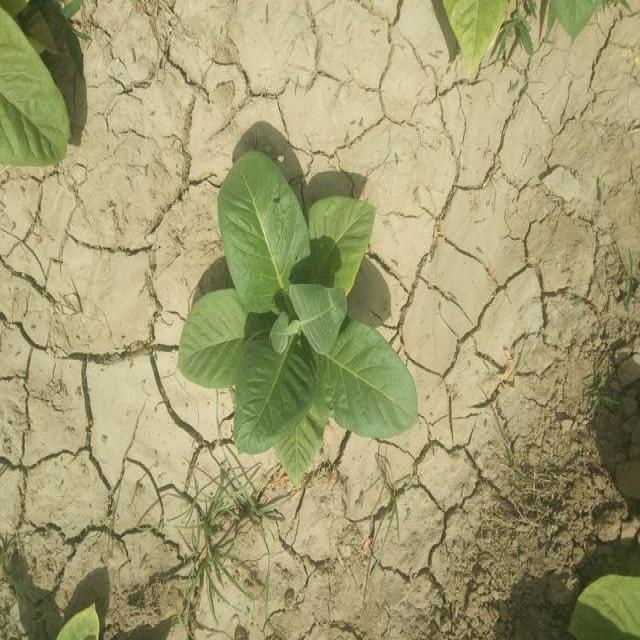crop: (182, 152, 416, 480), (3, 0, 69, 172), (453, 0, 625, 59)
